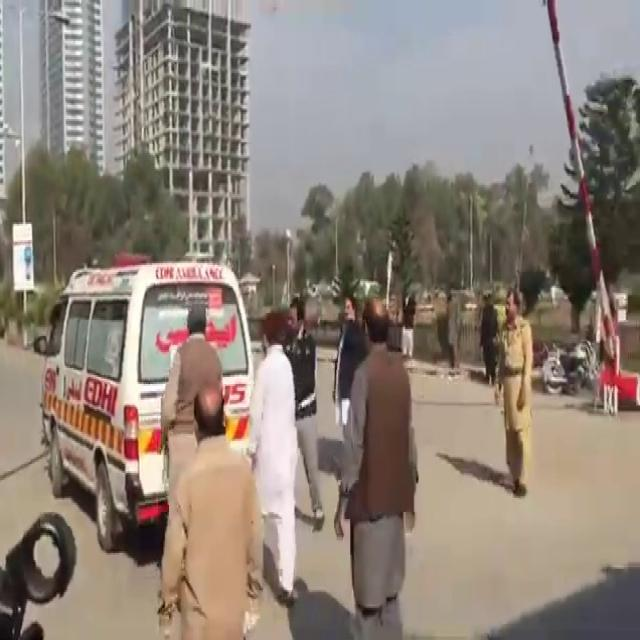ambulance: (35, 224, 270, 511)
